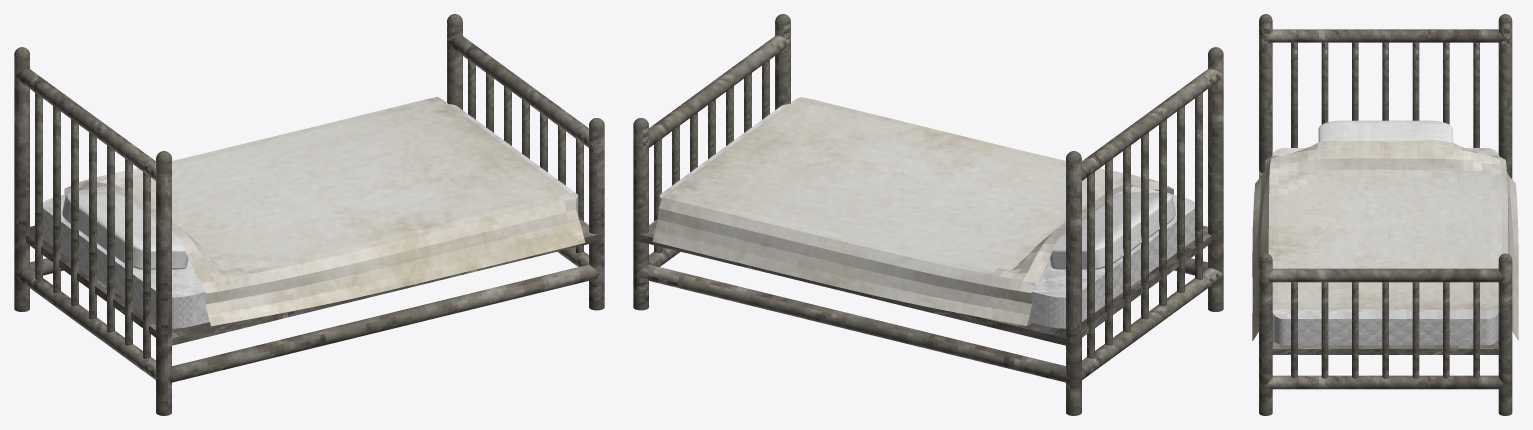
Rendered from bed.glb.
3 views of the same model, side by side, from view 1: azimuth 30°, elevation 25°; view 2: azimuth 150°, elevation 25°; view 3: azimuth 270°, elevation 25° (orthographic). The views are drawn at different scales.
Visible parts, largest first — view 1: Plane, Cylinder.023, Cube.002, Cylinder.019, Cube, Cylinder.021, Cube.001, Cylinder.025, Cylinder.002, Cylinder.022, Cylinder.024, Cylinder.015 (+8 smaller); view 2: Plane, Cylinder.018, Cube.002, Cube, Cylinder.021, Cylinder.019, Cube.001, Cylinder.025, Cylinder.002, Cylinder.001, Cylinder.024, Cylinder.012 (+8 smaller); view 3: Plane, Cube.002, Cylinder.025, Cylinder.003, Cylinder.002, Cube.001, Cylinder.001, Cylinder.021, Cylinder.022, Cylinder.019, Cube, Cylinder.008 (+13 smaller).
Boxes of the visible parts, x1=… form: Plane: x1=64, y1=96, x2=585, y2=326; Cylinder.023: x1=168, y1=264, x2=600, y2=382; Cube.002: x1=43, y1=104, x2=578, y2=328; Cylinder.019: x1=156, y1=159, x2=171, y2=415; Cube: x1=26, y1=220, x2=600, y2=346; Cylinder.021: x1=14, y1=56, x2=29, y2=311; Cube.001: x1=62, y1=192, x2=188, y2=269; Cylinder.025: x1=448, y1=35, x2=590, y2=147; Cylinder.002: x1=15, y1=68, x2=157, y2=180; Cylinder.022: x1=589, y1=127, x2=604, y2=310; Cylinder.024: x1=15, y1=268, x2=157, y2=379; Cylinder.015: x1=125, y1=158, x2=132, y2=345; Plane: x1=652, y1=97, x2=1173, y2=325; Cylinder.018: x1=637, y1=264, x2=1069, y2=382; Cube.002: x1=659, y1=104, x2=1194, y2=328; Cube: x1=637, y1=220, x2=1211, y2=346; Cylinder.021: x1=1066, y1=159, x2=1081, y2=415; Cylinder.019: x1=1208, y1=56, x2=1223, y2=311; Cube.001: x1=1049, y1=192, x2=1175, y2=269; Cylinder.025: x1=648, y1=35, x2=790, y2=147; Cylinder.002: x1=1081, y1=68, x2=1223, y2=180; Cylinder.001: x1=633, y1=127, x2=648, y2=310; Cylinder.024: x1=1081, y1=268, x2=1223, y2=379; Cylinder.012: x1=1105, y1=158, x2=1112, y2=345; Plane: x1=1252, y1=140, x2=1518, y2=341; Cube.002: x1=1272, y1=148, x2=1499, y2=345; Cylinder.025: x1=1264, y1=268, x2=1504, y2=282; Cylinder.003: x1=1264, y1=375, x2=1504, y2=389; Cylinder.002: x1=1264, y1=29, x2=1504, y2=42; Cube.001: x1=1318, y1=120, x2=1452, y2=142; Cylinder.001: x1=1498, y1=260, x2=1512, y2=415; Cylinder.021: x1=1498, y1=21, x2=1512, y2=172; Cylinder.022: x1=1259, y1=261, x2=1272, y2=415; Cylinder.019: x1=1259, y1=21, x2=1272, y2=172; Cube: x1=1259, y1=171, x2=1512, y2=354; Cylinder.008: x1=1412, y1=282, x2=1419, y2=378.
Bounding box in the file's own units: 2.58 × 1.44 × 1.58.
Materials: 32 (32 with a texture image).
